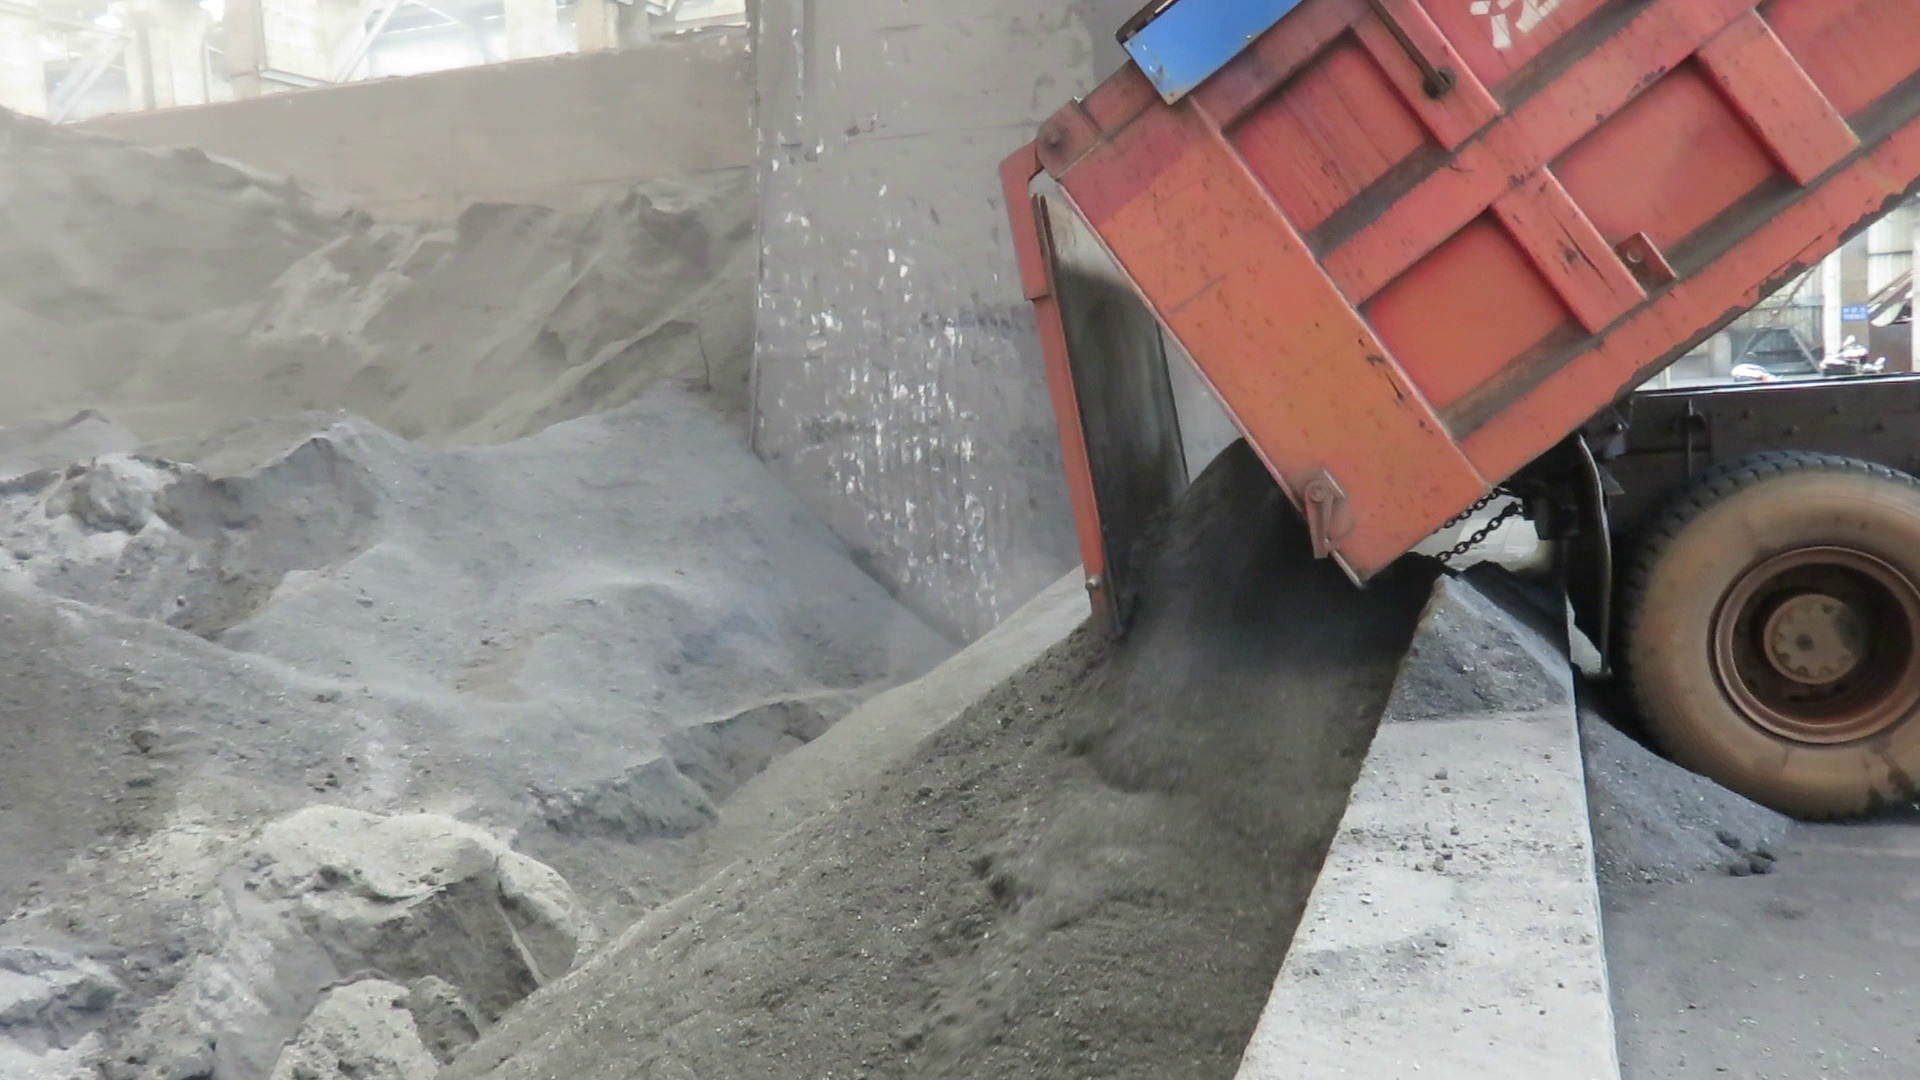dust: (15, 55, 1004, 769)
truck: (989, 0, 1920, 841)
